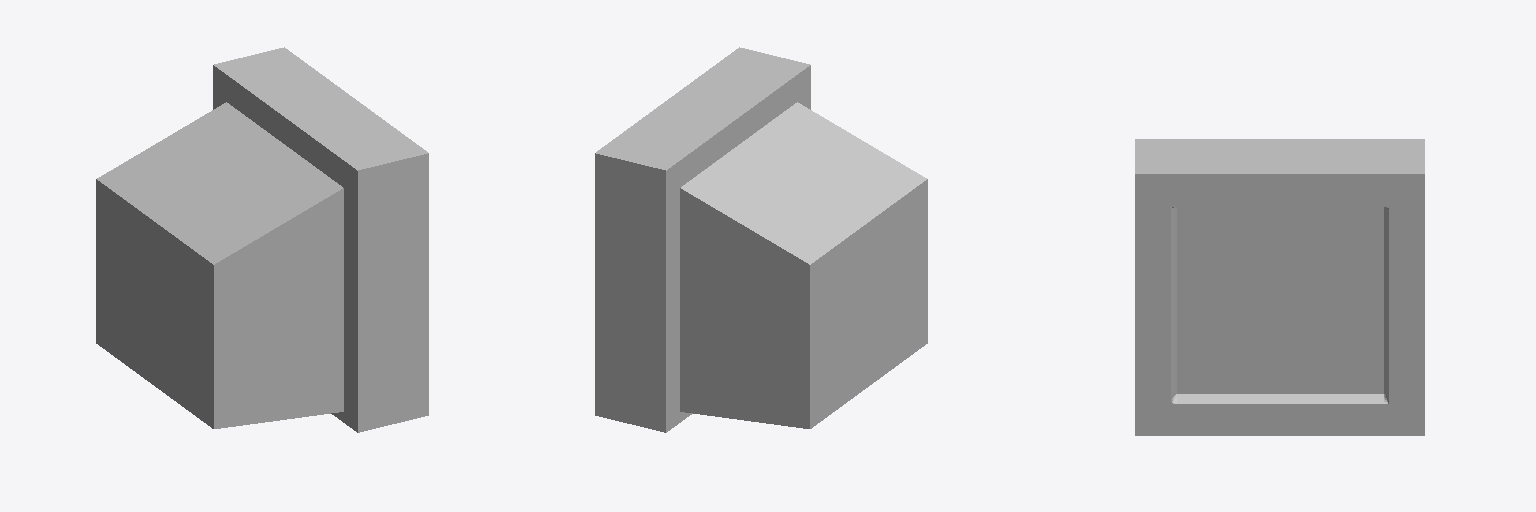
The model's file is computador.obj.
3 renders of one model, left to right at view 1: azimuth 30°, elevation 25°; view 2: azimuth 150°, elevation 25°; view 3: azimuth 270°, elevation 25°, orthographic.
Parts seen in each view (by area): view 1: Cube.001, Cube; view 2: Cube.001, Cube; view 3: Cube.
Boxes of the visible parts, x1=… form: Cube.001: x1=96, y1=102, x2=343, y2=428; Cube: x1=213, y1=47, x2=428, y2=432; Cube.001: x1=680, y1=102, x2=927, y2=428; Cube: x1=595, y1=47, x2=810, y2=432; Cube: x1=1135, y1=139, x2=1424, y2=435.
Size of the model in its own units: 1.61 by 2 by 2.